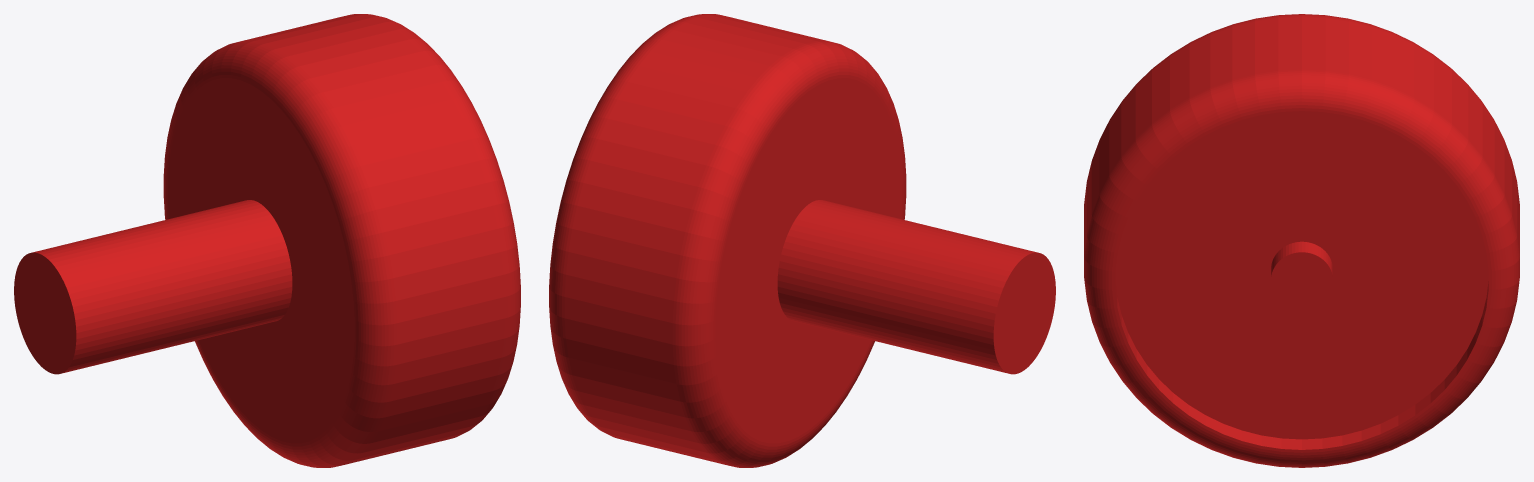
Rendered from 0_colored.obj.
3 renders of one model, left to right at view 1: azimuth 30°, elevation 25°; view 2: azimuth 150°, elevation 25°; view 3: azimuth 270°, elevation 25°, orthographic.
Size of the model in its own units: 0.035 by 0.035 by 0.0349.
